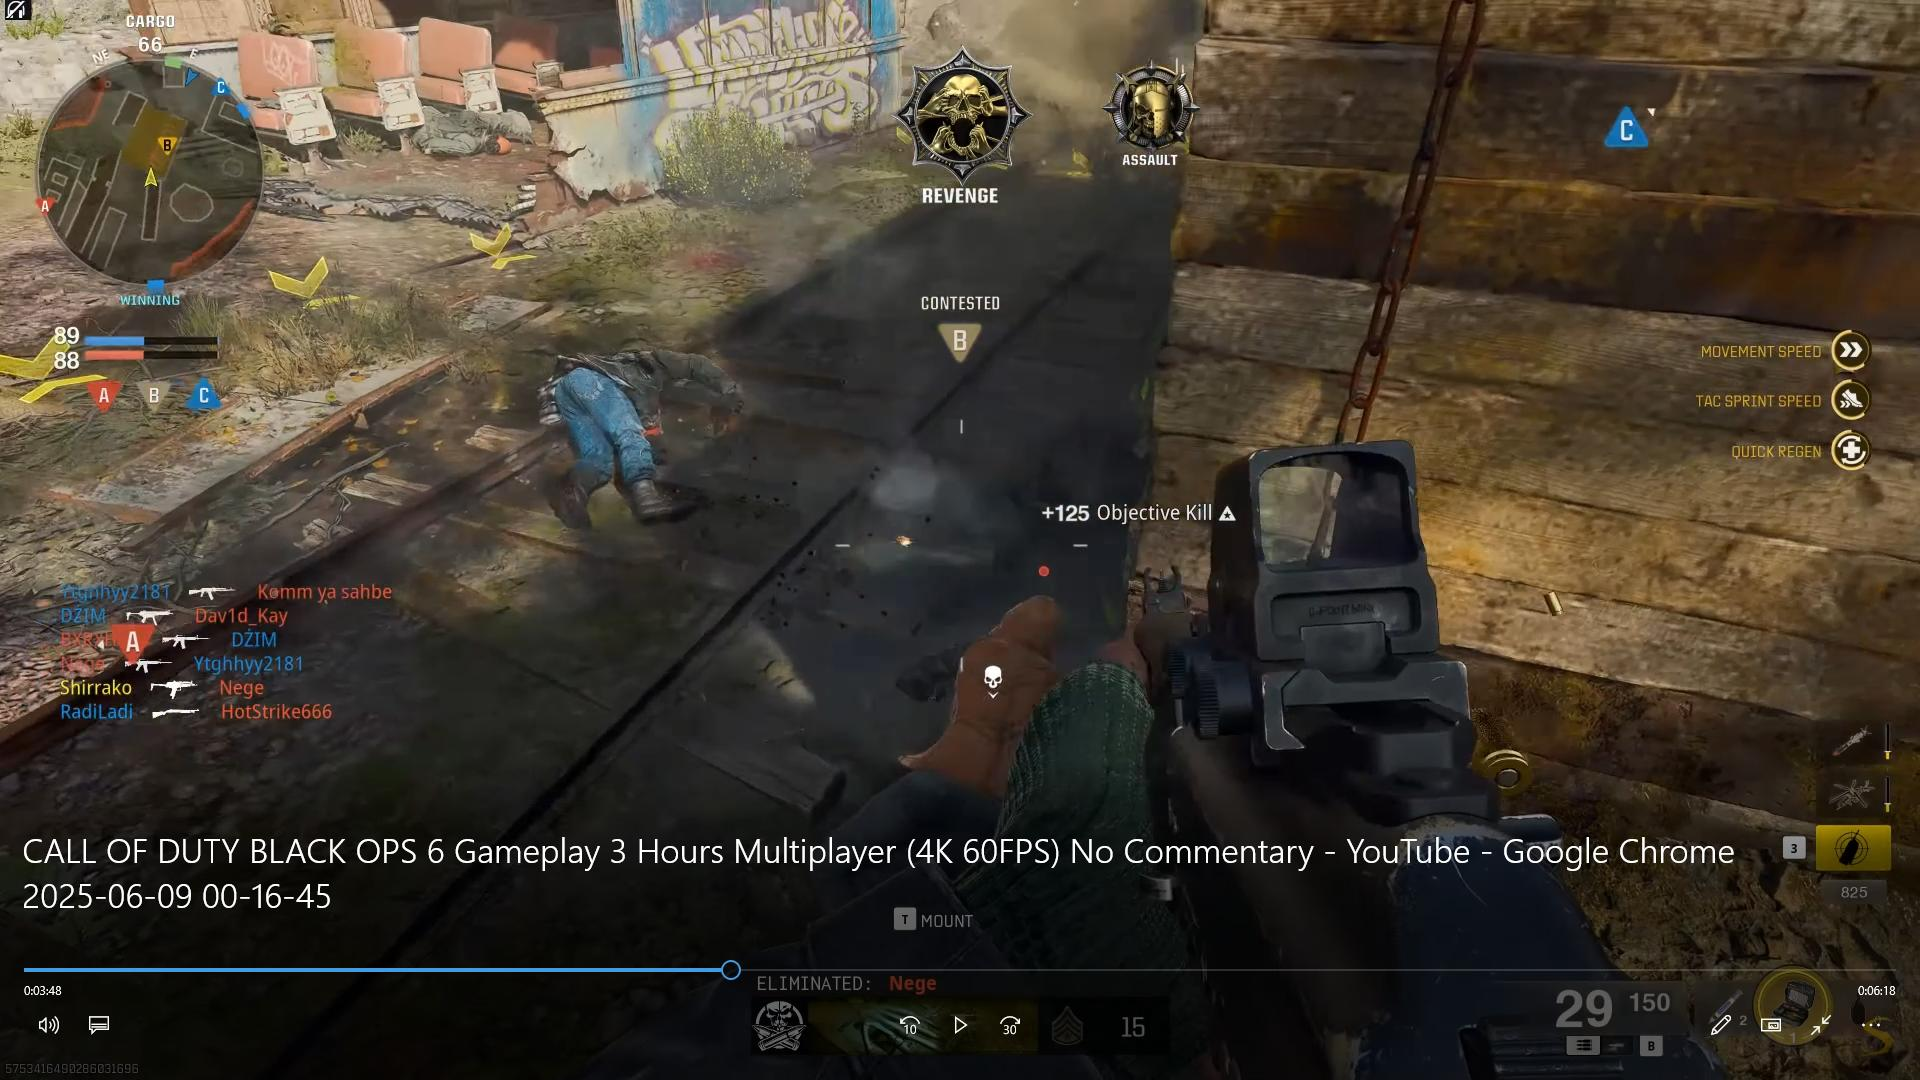Enemy: (897, 560, 1079, 683)
